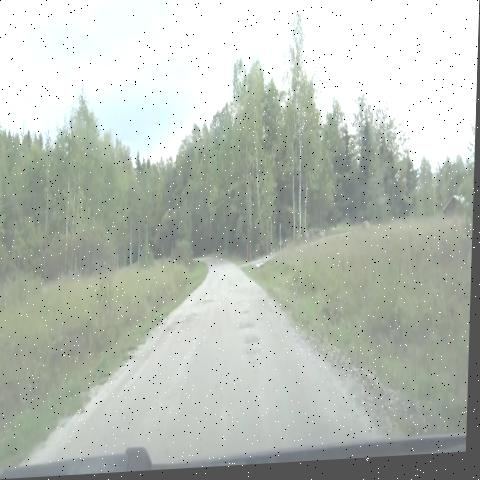pothole: (235, 310, 270, 376), (197, 292, 218, 316), (170, 318, 197, 334)
